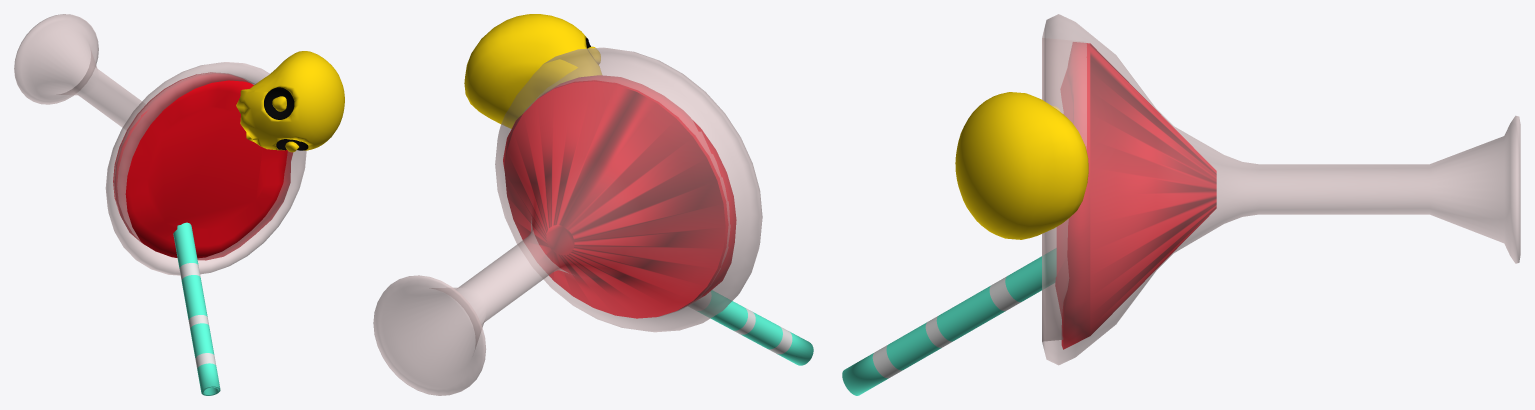
The picture shows the model from 3 angles, left to right: view 1: azimuth 30°, elevation 25°; view 2: azimuth 150°, elevation 25°; view 3: azimuth 270°, elevation 25°; orthographic projection. The views are drawn at different scales.
Parts seen in each view (by area): view 1: Cylinder.002; view 2: Cylinder.002; view 3: Cylinder.002.
Part boxes in pixels (left/top/right/bottom): Cylinder.002: left=14, top=14, right=344, bottom=395; Cylinder.002: left=373, top=14, right=813, bottom=395; Cylinder.002: left=842, top=14, right=1520, bottom=395.
Size of the model in its own units: 1.21 by 1.39 by 2.09.
